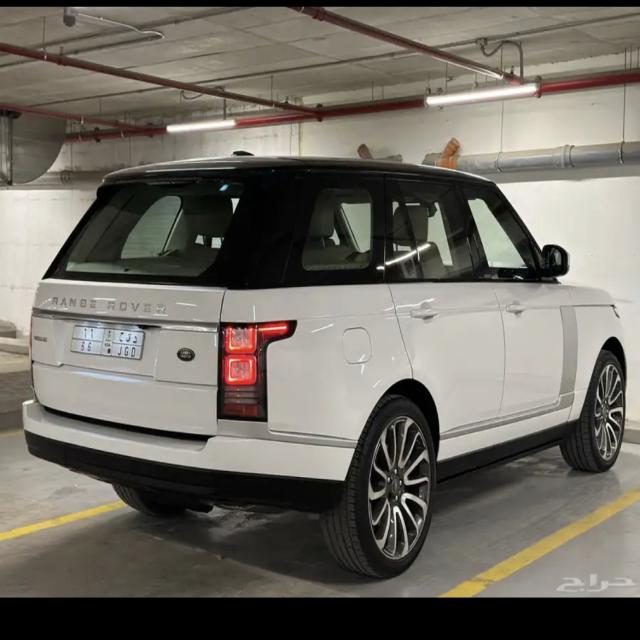license_plate: (71, 324, 143, 361)
